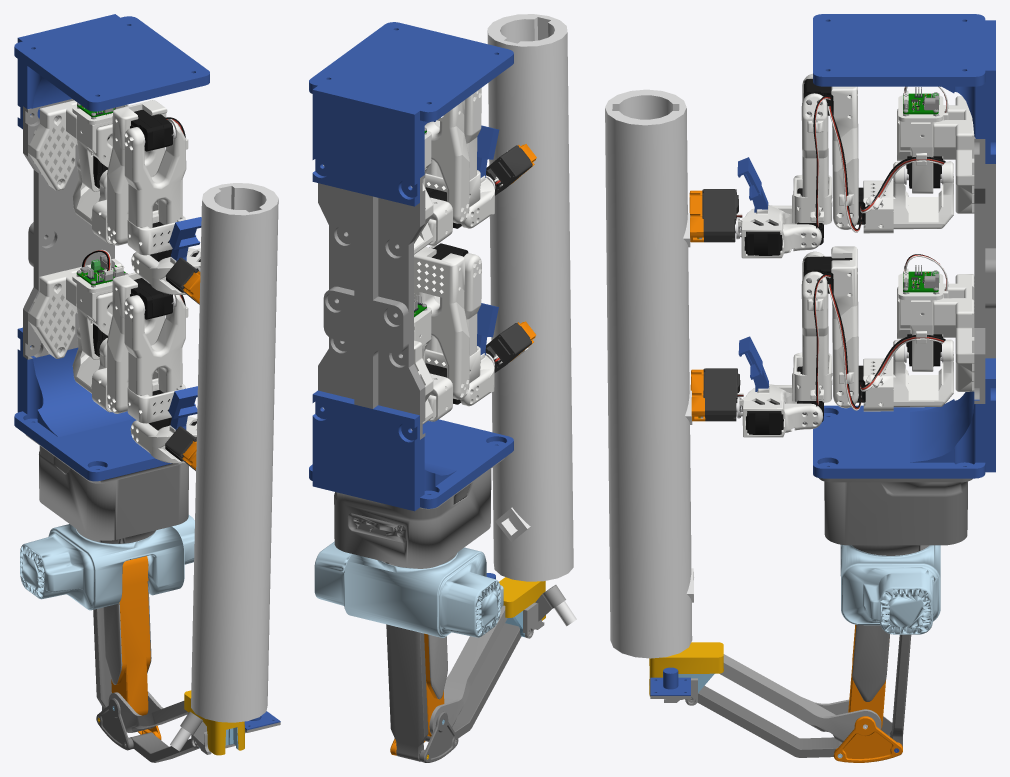
File: robot-assembly.glb
3 renders of one model, left to right at view 1: azimuth 30°, elevation 25°; view 2: azimuth 150°, elevation 25°; view 3: azimuth 270°, elevation 25°, orthographic. The views are drawn at different scales.
Parts seen in each view (by area): view 1: _2_1_2_3_4_AF0:1__Body1_1; view 2: _2_1_2_3_4_AF0:1__Body1_1; view 3: _2_1_2_3_4_AF0:1__Body1_1.
Part boxes in pixels (x1=…): _2_1_2_3_4_AF0:1__Body1_1: x1=14, y1=14, x2=280, y2=762; _2_1_2_3_4_AF0:1__Body1_1: x1=309, y1=14, x2=576, y2=762; _2_1_2_3_4_AF0:1__Body1_1: x1=605, y1=14, x2=995, y2=762.
Bounding box in the file's own units: 0.179 × 0.7259 × 0.3632.
Materials: 1 (1 with a texture image).
